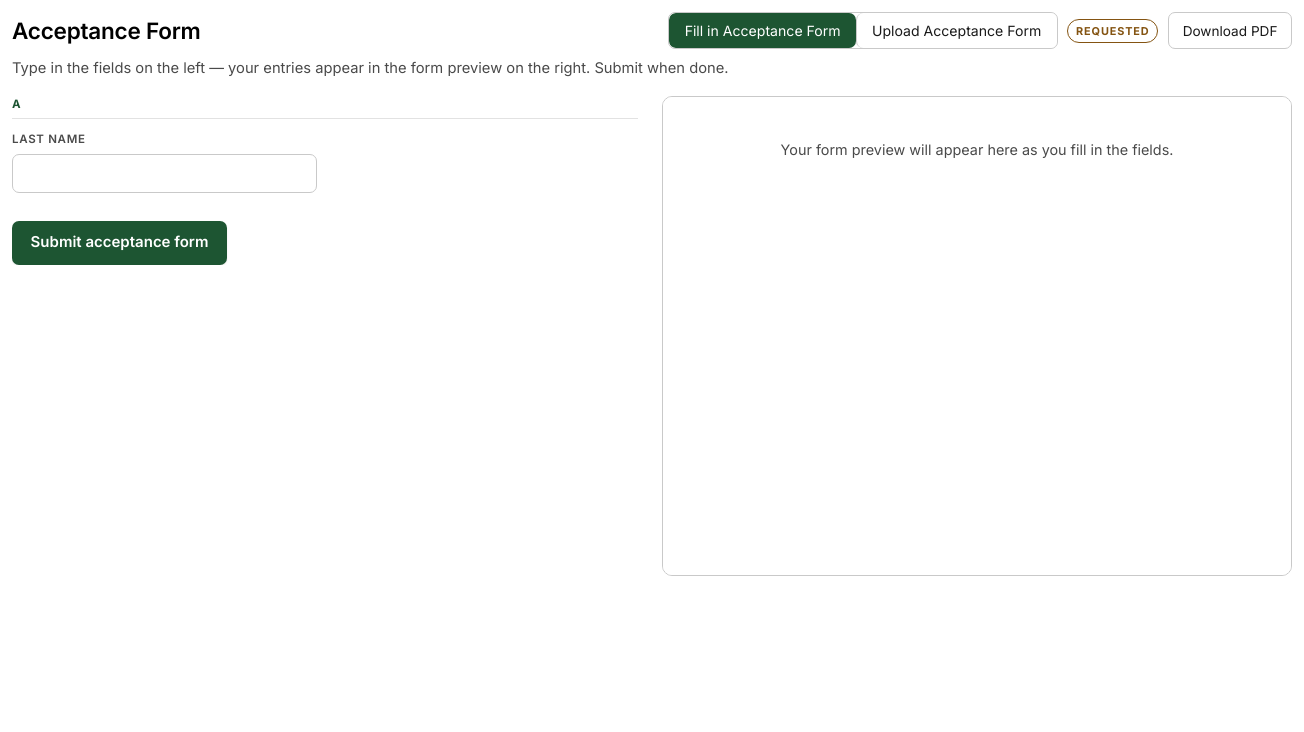
InfoSheetSelf (split form + live preview) › submits the form data
Click the button "Submit acceptance form". click: point(120, 243)
box: x1=12 y1=221 x2=227 y2=265
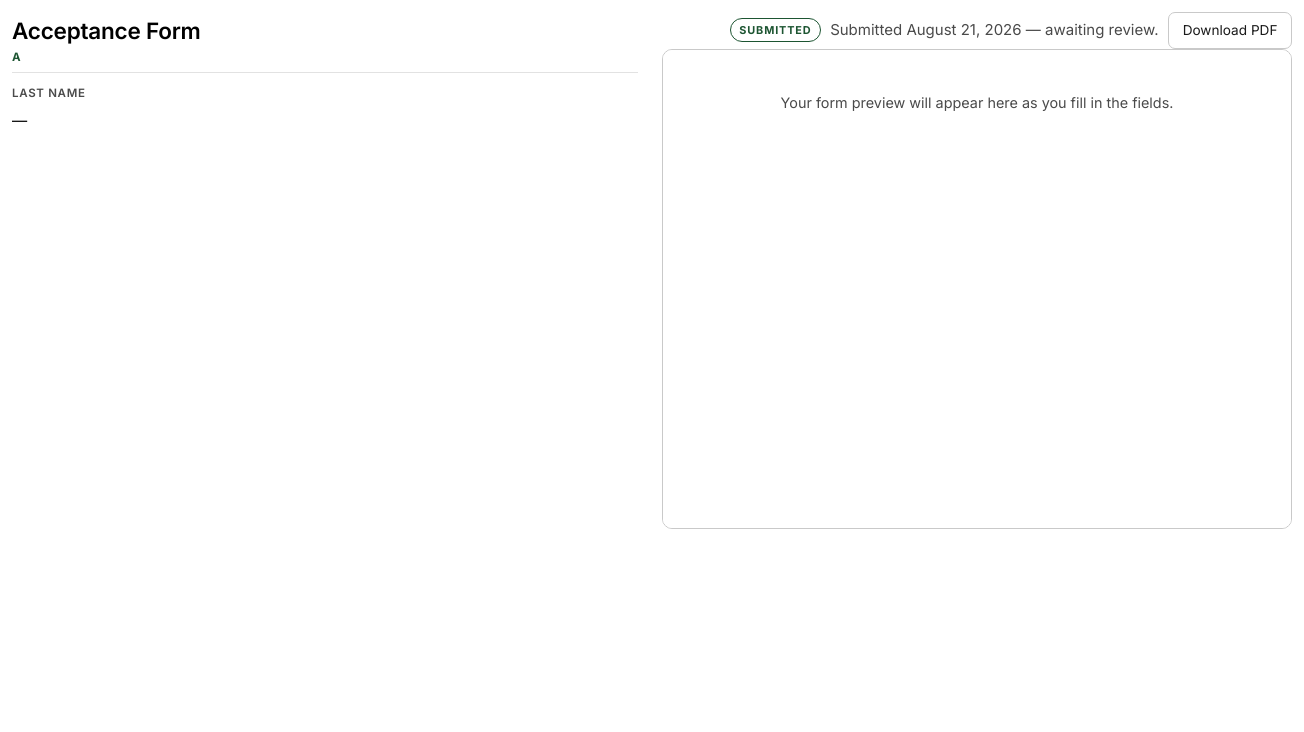
Check: the text "Submitted" is shown, box x1=730 y1=18 x2=821 y2=42
